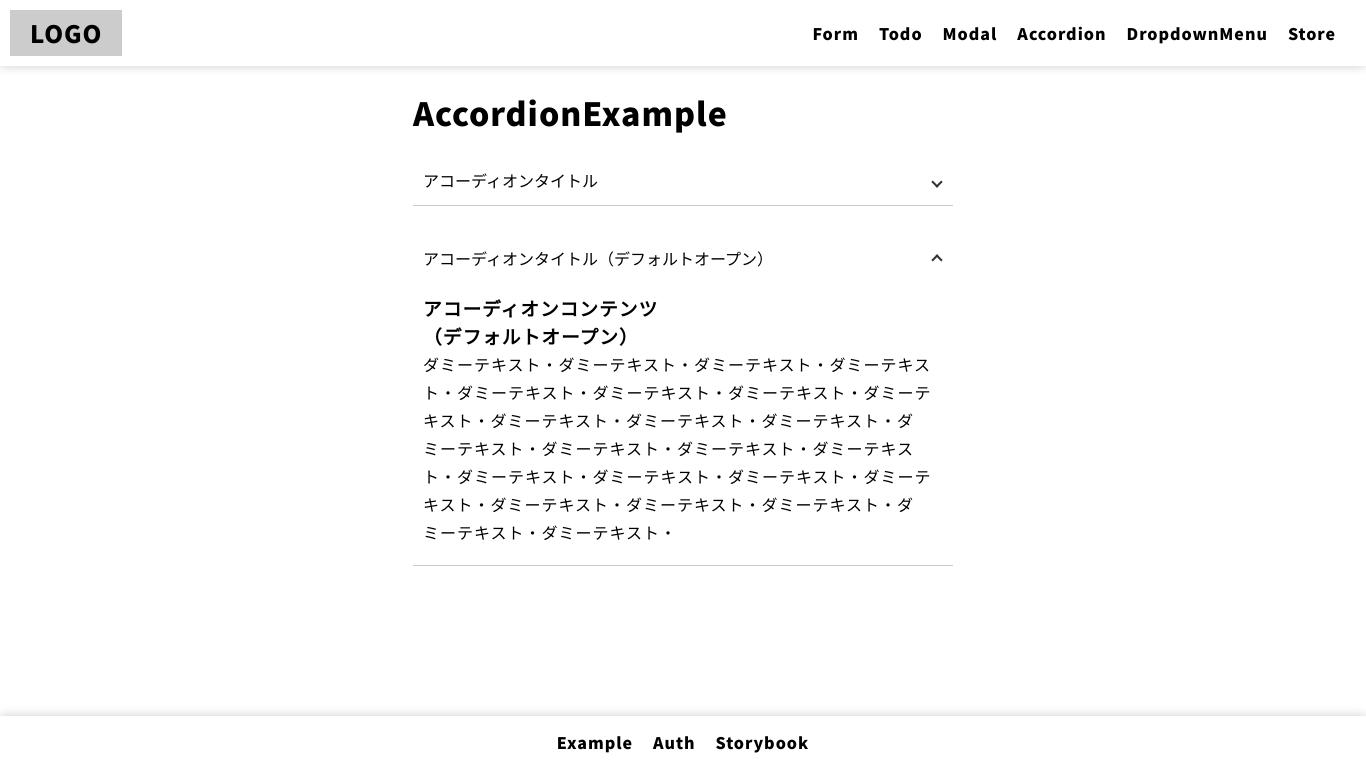
Test: AccordionExample page › renders and toggles an accordion
This screenshot has width=1366, height=768.
Expected: the heading "AccordionExample" is shown, x1=413 y1=89 x2=728 y2=135
Click the button "アコーディオンタイトル" at (510, 182), box x1=413 y1=158 x2=953 y2=206
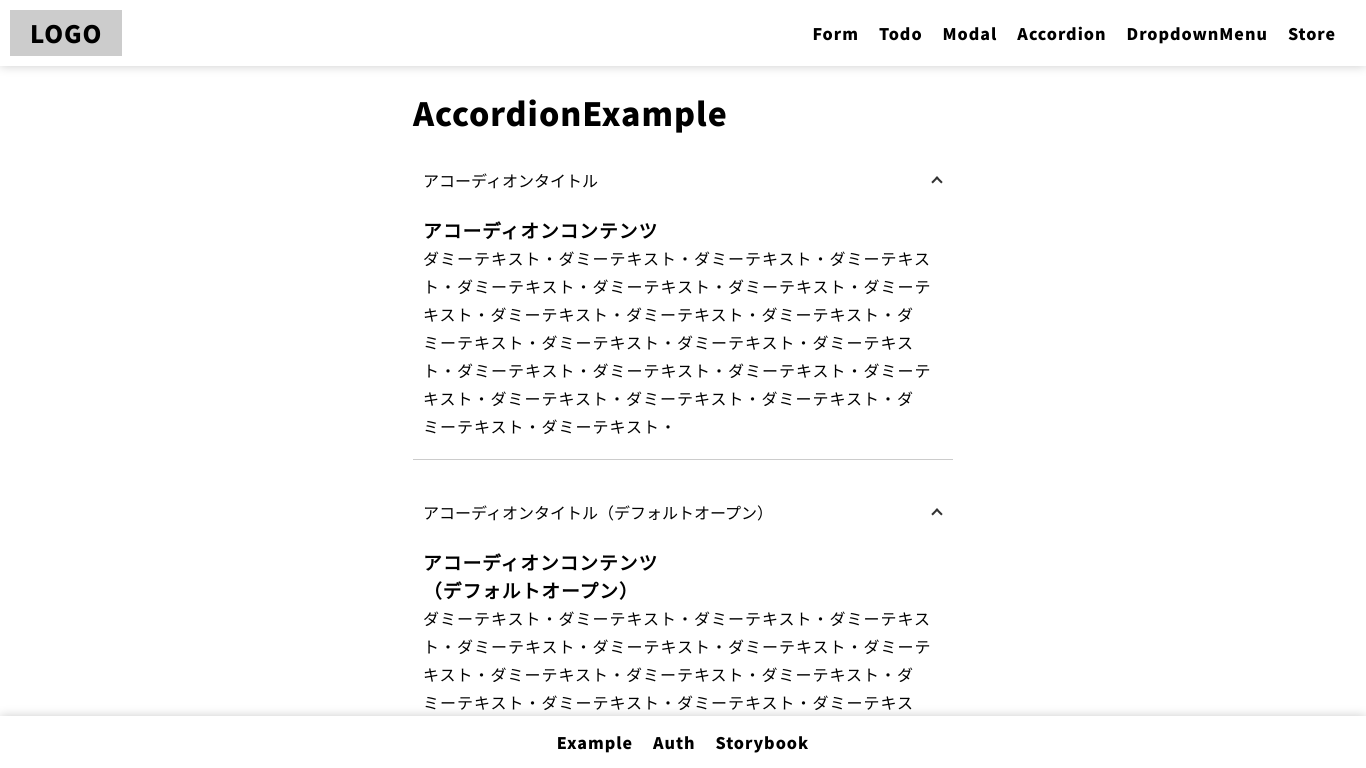
Result: the button "アコーディオンタイトル" is expanded at x1=413 y1=158 x2=953 y2=206
